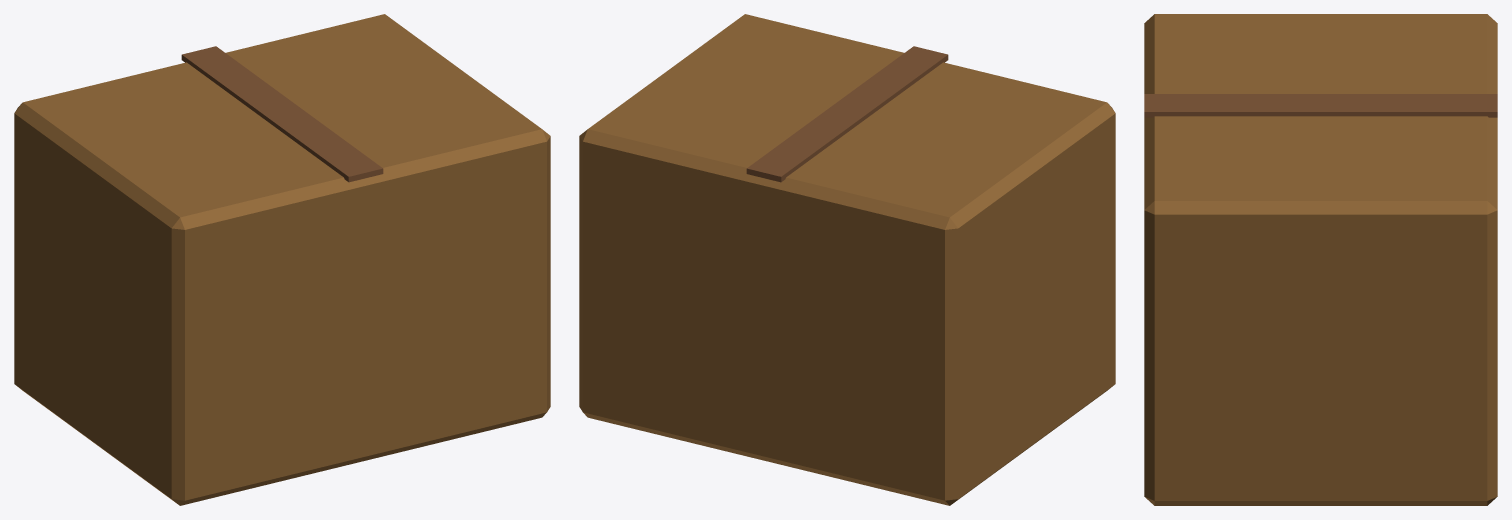
Rendered from BoxSmall.fbx.
The picture shows the model from 3 angles, left to right: view 1: azimuth 30°, elevation 25°; view 2: azimuth 150°, elevation 25°; view 3: azimuth 270°, elevation 25°; orthographic projection. The views are drawn at different scales.
Visible parts, largest first — view 1: BoxSmall; view 2: BoxSmall; view 3: BoxSmall.
Part boxes in pixels (x1,y1,x2,y2): BoxSmall: [14, 14, 550, 505]; BoxSmall: [579, 14, 1115, 505]; BoxSmall: [1144, 14, 1497, 505].
Bounding box in the file's own units: 35.75 × 26.38 × 27.3.
1 material, 1 textured.
